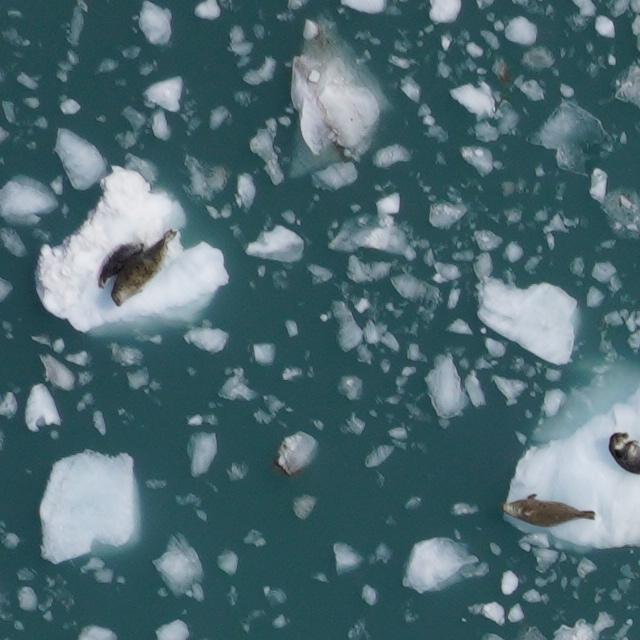seal: (97, 219, 190, 312), (498, 485, 597, 541), (89, 234, 147, 290), (608, 433, 639, 475)
